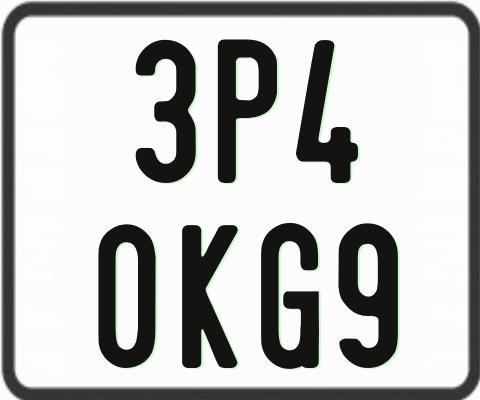0: (98, 223, 162, 371)
3: (134, 37, 197, 186)
4: (296, 37, 361, 185)
9: (338, 223, 400, 370)
G: (260, 221, 320, 368)
K: (179, 225, 235, 373)
P: (218, 40, 283, 189)
